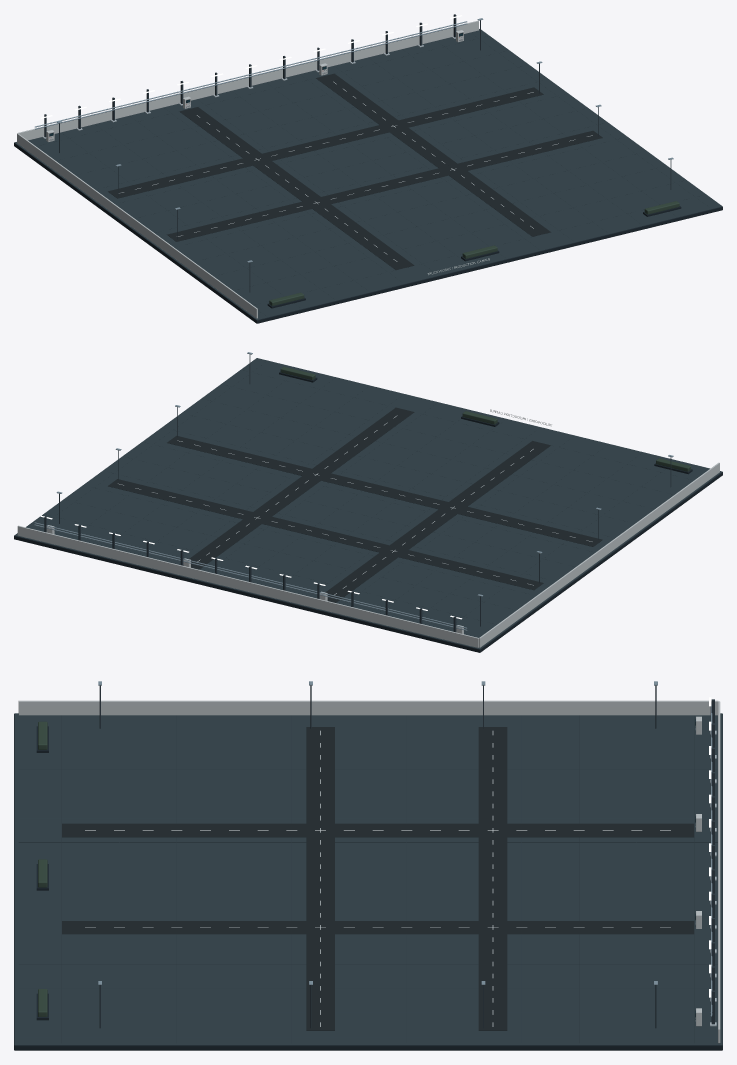
The model's file is campus-ground.glb.
3 renders of one model, top to bottom at view 1: azimuth 30°, elevation 25°; view 2: azimuth 150°, elevation 25°; view 3: azimuth 270°, elevation 25°, orthographic. The views are drawn at different scales.
Visible parts, largest first — view 1: campus_ground_Workshop_Epoxy, campus_ground_Road_Asphalt, campus_ground_Enamel_Pearl, campus_ground_Enamel_Graphite, campus_ground_Cast_Base, campus_ground_Brushed_Aluminium, campus_ground_Landscape, campus_ground_Label_White; view 2: campus_ground_Workshop_Epoxy, campus_ground_Road_Asphalt, campus_ground_Enamel_Pearl, campus_ground_Enamel_Graphite, campus_ground_Cast_Base, campus_ground_Brushed_Aluminium, campus_ground_Landscape, campus_ground_Label_White; view 3: campus_ground_Workshop_Epoxy, campus_ground_Road_Asphalt, campus_ground_Enamel_Pearl, campus_ground_Enamel_Graphite, campus_ground_Cast_Base, campus_ground_Landscape, campus_ground_Label_White, campus_ground_Brushed_Aluminium.
Boxes of the visible parts, <box> form: campus_ground_Workshop_Epoxy: <box>14,29,722,319</box>; campus_ground_Road_Asphalt: <box>108,73,602,269</box>; campus_ground_Enamel_Pearl: <box>17,20,478,318</box>; campus_ground_Enamel_Graphite: <box>40,14,709,315</box>; campus_ground_Cast_Base: <box>14,142,722,323</box>; campus_ground_Brushed_Aluminium: <box>34,18,673,262</box>; campus_ground_Landscape: <box>269,201,679,305</box>; campus_ground_Label_White: <box>119,81,592,274</box>; campus_ground_Workshop_Epoxy: <box>14,358,722,649</box>; campus_ground_Road_Asphalt: <box>108,407,602,602</box>; campus_ground_Enamel_Pearl: <box>17,462,719,647</box>; campus_ground_Enamel_Graphite: <box>38,354,691,632</box>; campus_ground_Cast_Base: <box>14,371,722,652</box>; campus_ground_Brushed_Aluminium: <box>34,352,673,630</box>; campus_ground_Landscape: <box>280,366,690,471</box>; campus_ground_Label_White: <box>118,409,592,594</box>; campus_ground_Workshop_Epoxy: <box>14,713,722,1045</box>; campus_ground_Road_Asphalt: <box>62,727,694,1030</box>; campus_ground_Enamel_Pearl: <box>18,700,720,1043</box>; campus_ground_Enamel_Graphite: <box>19,685,717,1042</box>; campus_ground_Cast_Base: <box>14,714,722,1050</box>; campus_ground_Landscape: <box>38,721,47,1016</box>; campus_ground_Label_White: <box>85,730,670,1026</box>; campus_ground_Brushed_Aluminium: <box>98,681,712,1016</box>.
Bounding box in the file's own units: 82 × 6.01 × 74.
